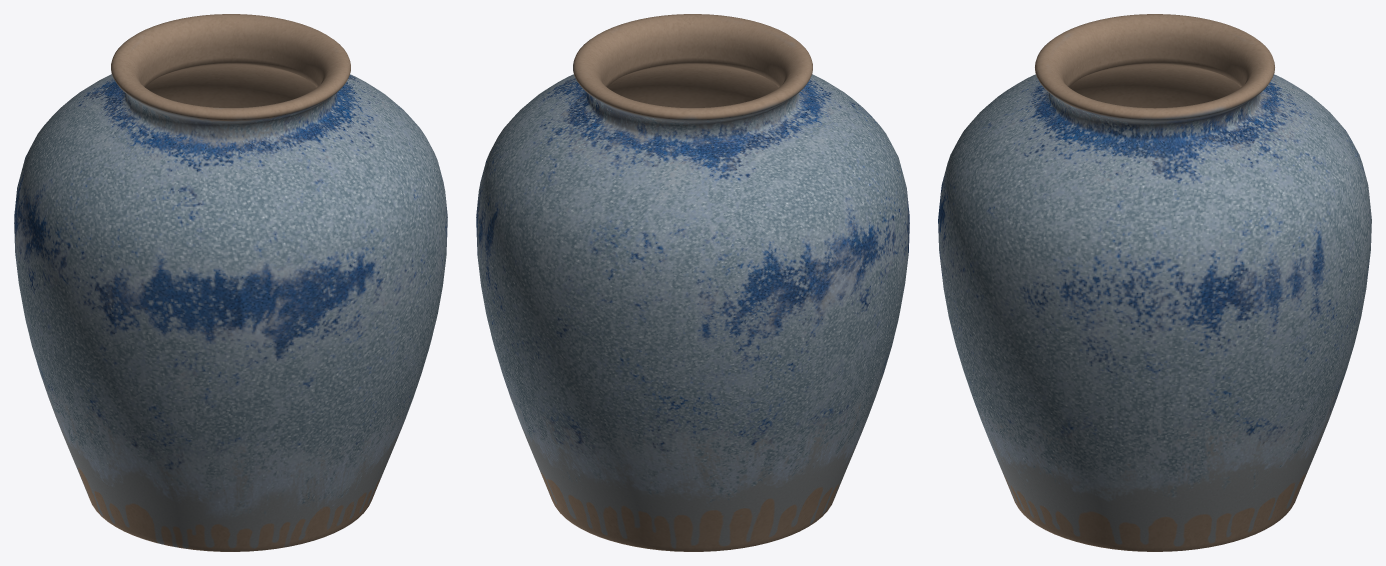
Rendered from seahorn.glb.
3 renders of one model, left to right at view 1: azimuth 30°, elevation 25°; view 2: azimuth 150°, elevation 25°; view 3: azimuth 270°, elevation 25°, orthographic.
Parts seen in each view (by area): view 1: seahorn-full; view 2: seahorn-full; view 3: seahorn-full.
Boxes of the visible parts, left/top/right/bottom form: seahorn-full: left=14, top=14, right=447, bottom=551; seahorn-full: left=476, top=14, right=909, bottom=551; seahorn-full: left=938, top=14, right=1371, bottom=551.
Bounding box in the file's own units: 0.3365 × 0.368 × 0.3365.
Materials: 1 (1 with a texture image).
